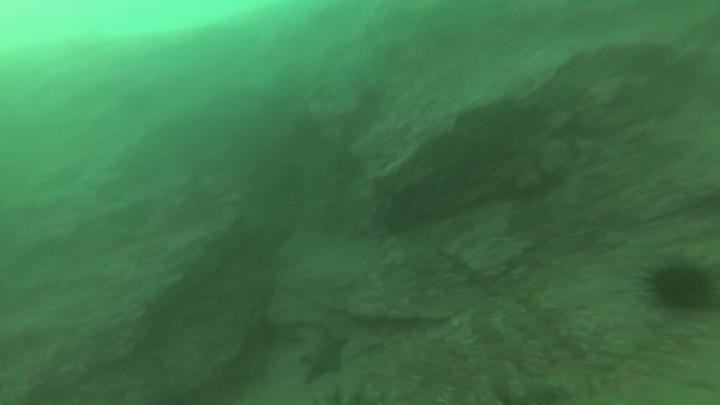echinus: (655, 263, 718, 313)
starfish: (299, 333, 348, 381)
